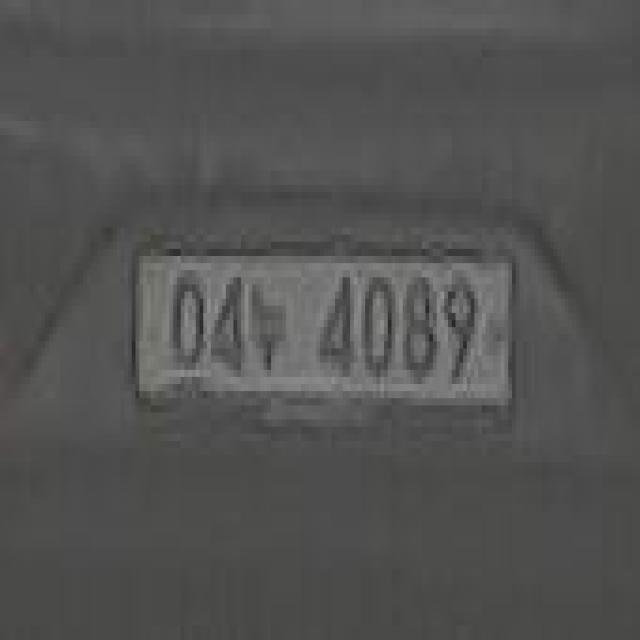illegal_plate: (129, 236, 521, 435)
